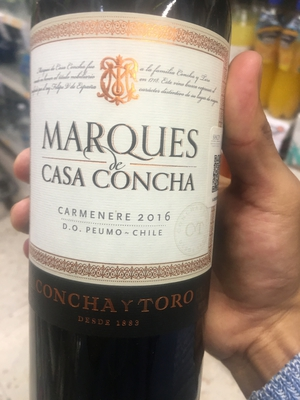marques de casa concha carmenere: (25, 10, 231, 400)
